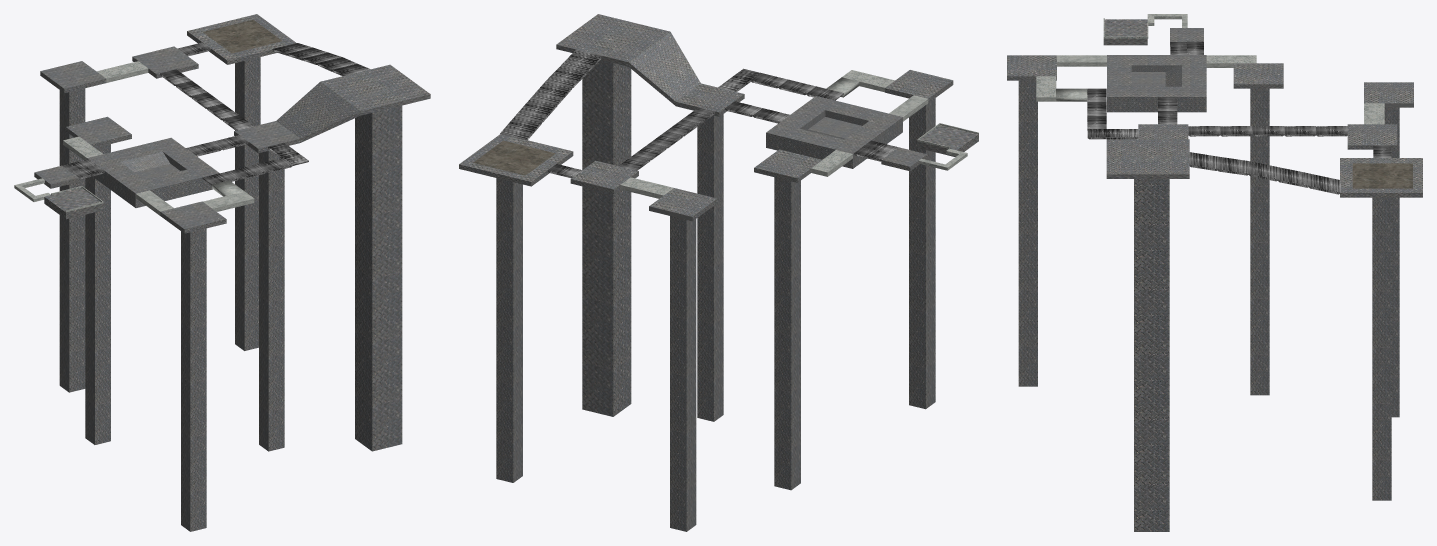
Rendered from view.obj.
3 renders of one model, left to right at view 1: azimuth 30°, elevation 25°; view 2: azimuth 150°, elevation 25°; view 3: azimuth 270°, elevation 25°, orthographic. The views are drawn at different scales.
Bounding box in the file's own units: 3478 × 3138 × 3236.
